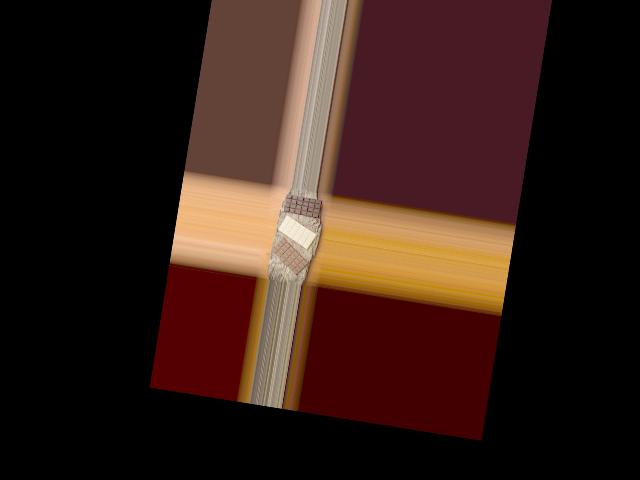chocolate: (283, 193, 322, 218)
